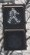walk: (2, 5, 26, 30)
